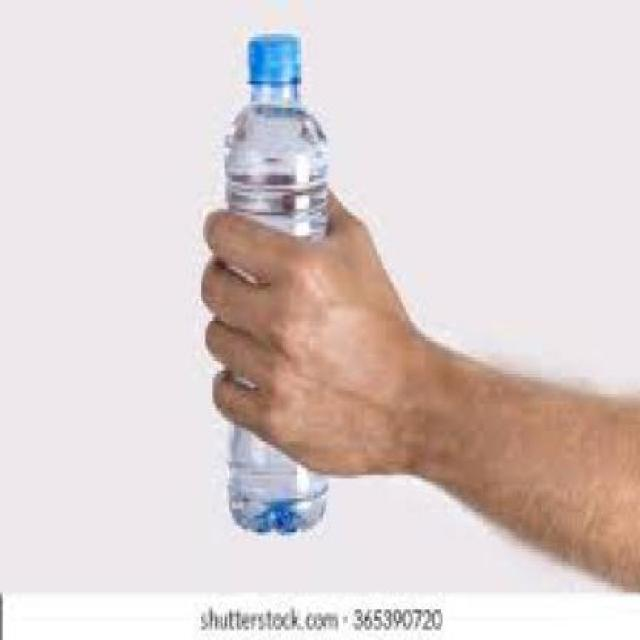Drinking: (198, 24, 360, 559)
